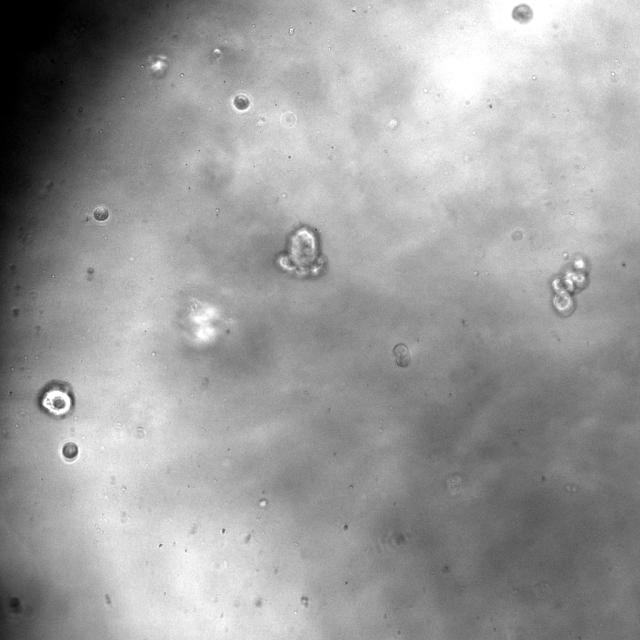organoid: (276, 224, 326, 278), (551, 256, 588, 316), (39, 381, 74, 416), (393, 343, 410, 367), (231, 93, 251, 112), (512, 4, 532, 23), (62, 441, 78, 460), (93, 207, 108, 221), (9, 597, 21, 614)
